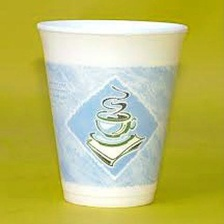paper_cup: (30, 13, 193, 212)
